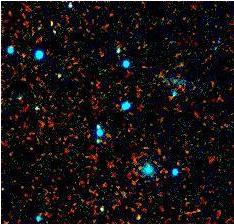star: (123, 202, 153, 224)
